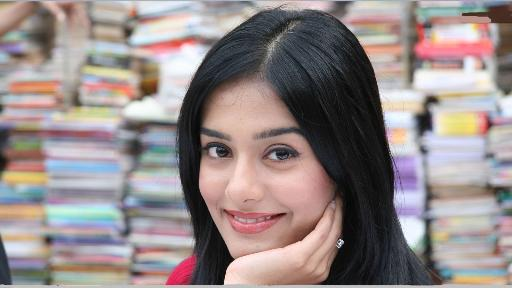left_eye: (263, 148, 303, 163)
left_lip_corner: (277, 210, 295, 220)
right_eye: (204, 145, 232, 161)
right_lip_corner: (219, 207, 232, 215)
